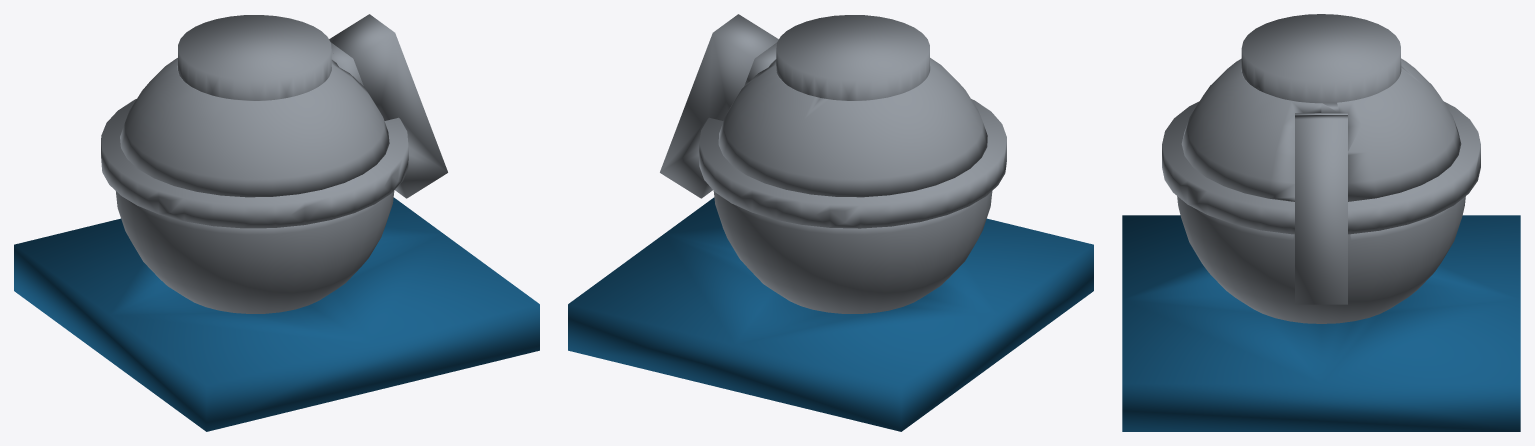
File: w_grenade.glb
3 renders of one model, left to right at view 1: azimuth 30°, elevation 25°; view 2: azimuth 150°, elevation 25°; view 3: azimuth 270°, elevation 25°, orthographic. The views are drawn at different scales.
Visible parts, largest first — view 1: figura, basetta; view 2: figura, basetta; view 3: figura, basetta.
Part boxes in pixels (x1=…): figura: x1=101, y1=14, x2=447, y2=313; basetta: x1=14, y1=197, x2=539, y2=431; figura: x1=660, y1=14, x2=1006, y2=313; basetta: x1=568, y1=197, x2=1093, y2=431; figura: x1=1162, y1=14, x2=1480, y2=323; basetta: x1=1122, y1=215, x2=1520, y2=431.
Bounding box in the file's own units: 0.015 × 0.012 × 0.015.
